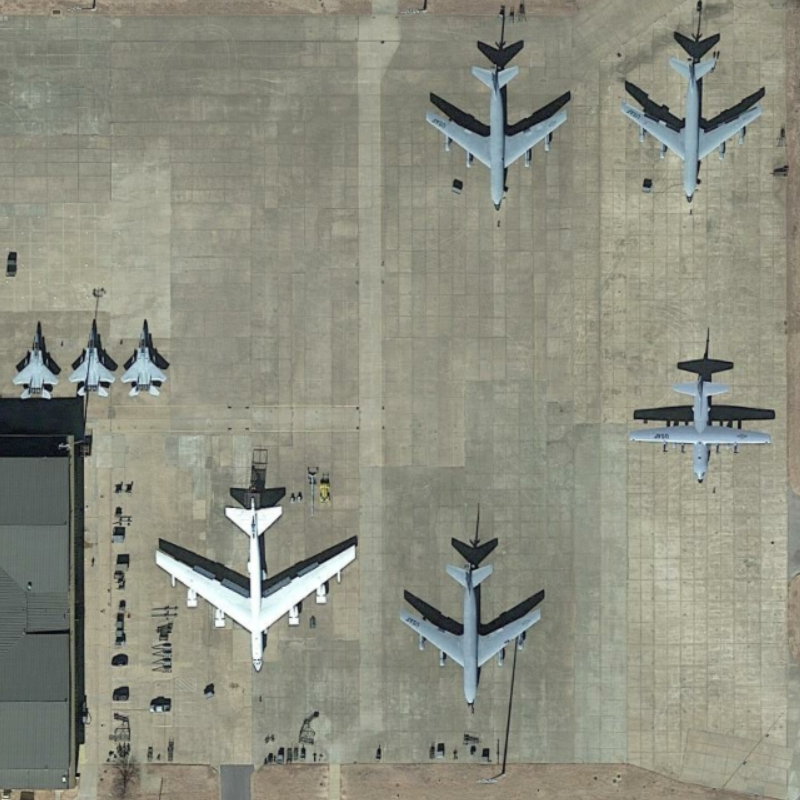A13: (116, 315, 178, 409), (68, 315, 123, 409), (10, 322, 64, 406)
A14: (419, 56, 576, 217), (391, 555, 545, 717), (615, 44, 767, 207)
A2: (615, 375, 782, 488)
A8: (144, 474, 362, 681)
